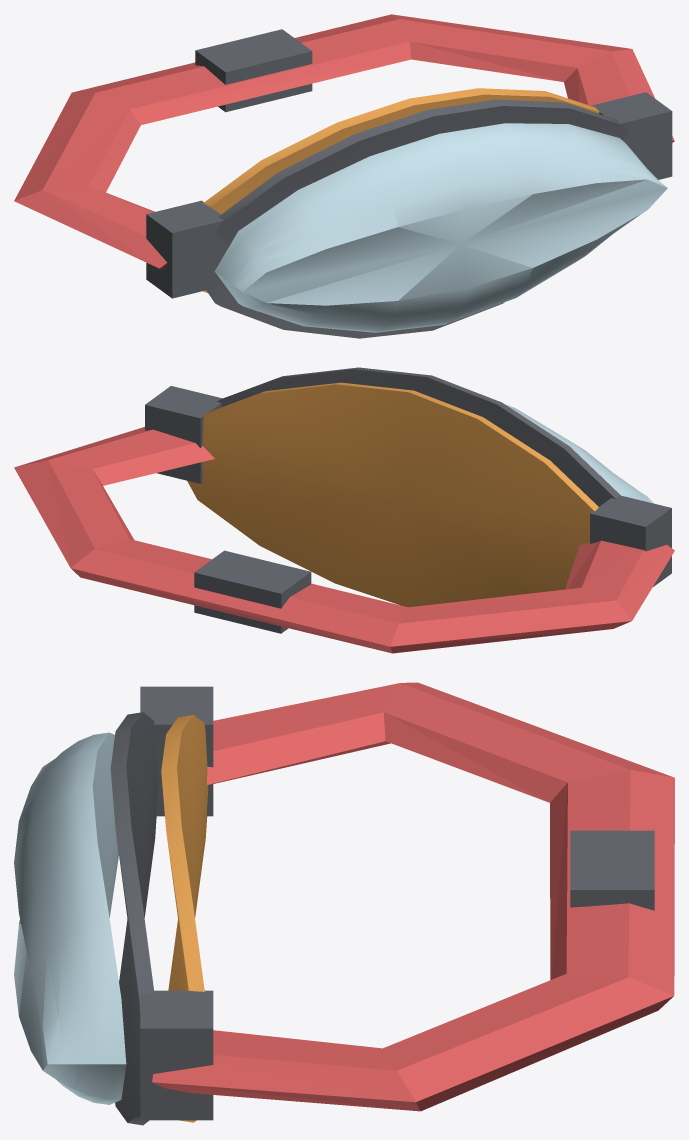
Rendered from mountaineering-and-summit-expedition-glacier-goggles-4091f77b__18822.glb.
3 renders of one model, top to bottom at view 1: azimuth 30°, elevation 25°; view 2: azimuth 150°, elevation 25°; view 3: azimuth 270°, elevation 25°, orthographic. The views are drawn at different scales.
Visible parts, largest first — view 1: glacier-goggles; view 2: glacier-goggles; view 3: glacier-goggles.
Part boxes in pixels (<box>): glacier-goggles: <box>14,14,674,338</box>; glacier-goggles: <box>14,367,674,653</box>; glacier-goggles: <box>14,682,674,1125</box>.
Bounding box in the file's own units: 0.3558 × 0.1206 × 0.2353.
